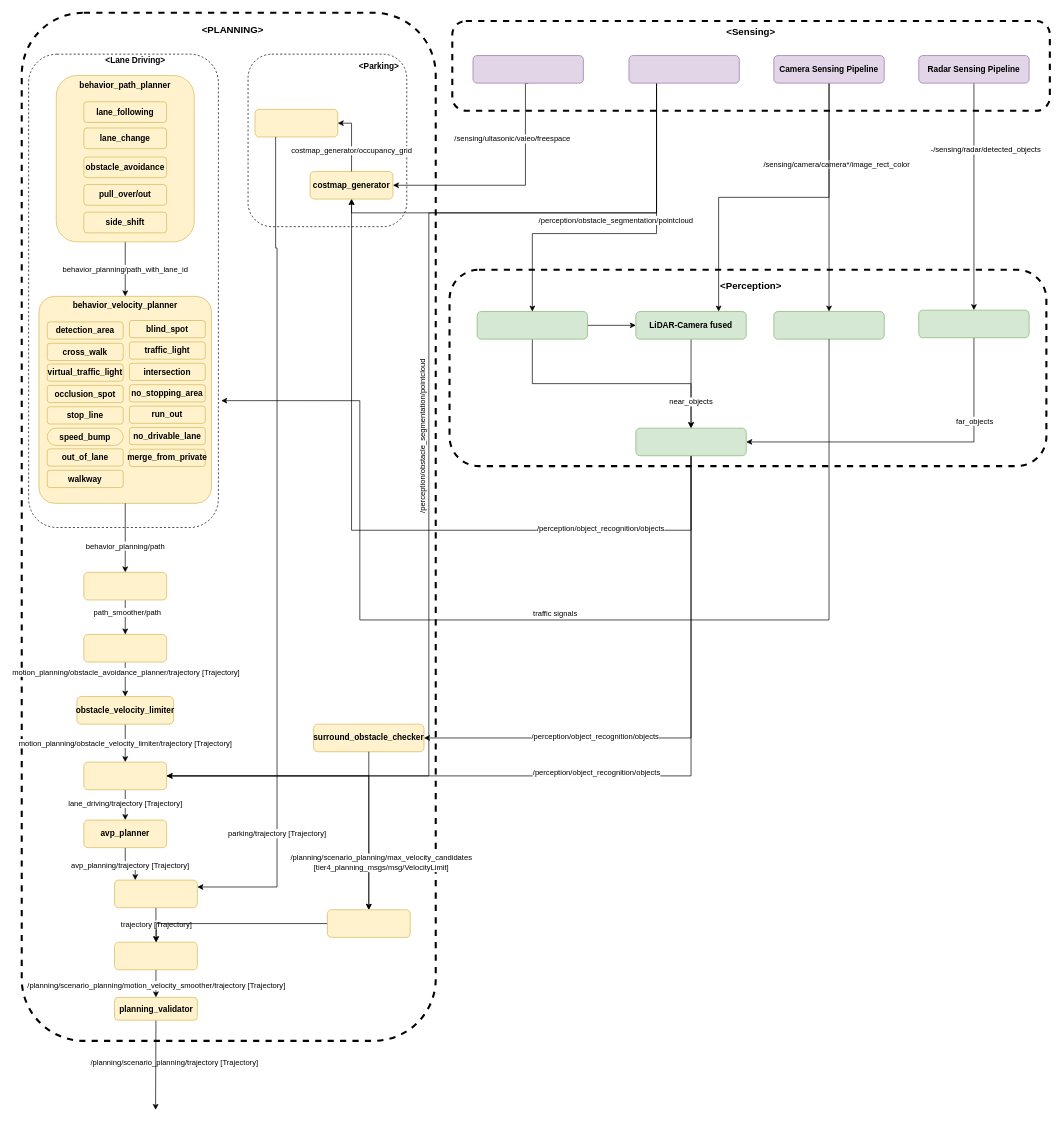
Some shapes in this 1063 by 1127 pixel diagram are drawn without their labels. The centre of each missing label's shape, as x and y in pixels:
"external_velocity_ limit_selector" belongs at (x=368, y=923).
"freespace_planner" belongs at (x=296, y=123).
"Lidar Pipeline" belongs at (x=532, y=325).
"LiDAR Sensing Pipeline" belongs at (x=683, y=69).
"motion_velocity_ smoother" belongs at (x=155, y=956).
"obstacle_ avoidance_planner" belongs at (x=125, y=648).
"obstacle_stop_ planner" belongs at (x=125, y=775).
"path_smoother" belongs at (x=125, y=586).
"Radar Pipeline" belongs at (x=973, y=323).
"scenario_selector" belongs at (x=155, y=893).
"tracking_merger" belongs at (x=690, y=441).
"traffic light classifier" belongs at (x=828, y=325).
"Valeo_ultrasonics_driver" belongs at (x=527, y=69).
